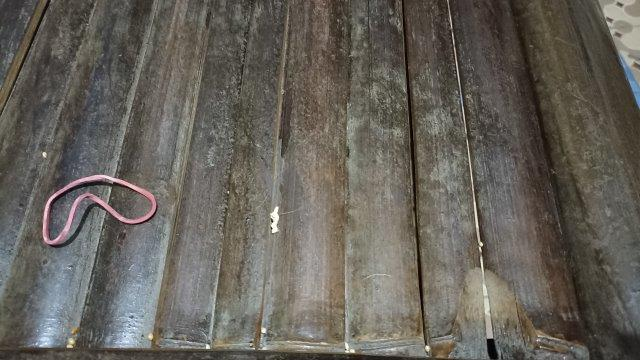karet: (42, 174, 157, 246)
